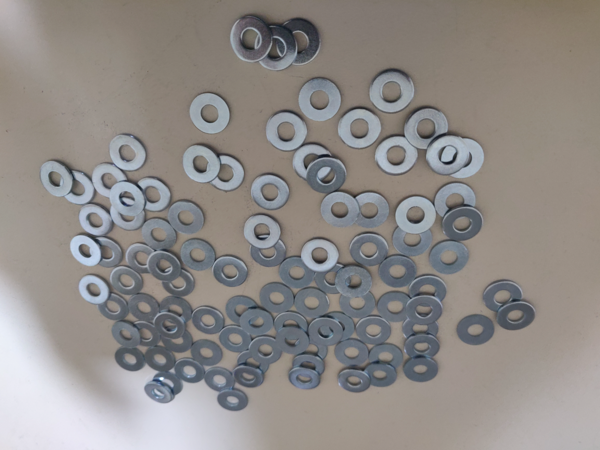circle: (276, 16, 321, 66), (230, 16, 274, 64), (255, 24, 298, 72), (370, 68, 415, 113), (298, 77, 342, 121), (404, 107, 448, 150), (338, 108, 382, 150), (265, 110, 308, 152), (189, 91, 231, 134), (375, 135, 419, 176), (442, 137, 484, 179), (306, 155, 349, 195), (292, 143, 334, 183), (427, 134, 467, 175), (394, 195, 436, 234), (181, 143, 221, 183), (250, 174, 292, 212), (352, 190, 391, 230), (435, 181, 476, 219), (442, 204, 484, 241), (206, 155, 246, 193), (298, 238, 340, 274), (429, 240, 471, 275), (136, 175, 173, 214), (482, 279, 524, 313), (109, 134, 147, 171), (91, 161, 128, 199), (393, 222, 433, 257), (277, 255, 315, 291), (321, 192, 359, 228), (168, 199, 206, 235), (179, 238, 216, 274), (59, 170, 96, 206), (109, 180, 146, 216), (141, 216, 178, 252), (313, 261, 351, 296), (378, 255, 417, 289), (496, 300, 536, 333), (109, 197, 145, 233), (244, 214, 281, 249), (409, 274, 446, 309), (350, 232, 388, 266), (355, 315, 394, 348), (78, 202, 113, 238), (212, 255, 249, 289), (457, 314, 496, 346), (160, 265, 196, 299), (40, 161, 73, 198), (405, 296, 444, 327), (250, 235, 287, 267), (335, 266, 372, 298), (401, 313, 439, 344), (339, 287, 377, 318), (147, 249, 181, 282), (378, 291, 412, 324), (109, 267, 144, 299), (258, 283, 294, 314), (402, 356, 440, 385), (309, 315, 342, 348), (324, 311, 358, 343), (158, 296, 193, 327), (142, 343, 177, 374), (404, 332, 441, 361), (77, 274, 110, 306), (130, 320, 163, 352), (127, 293, 160, 325), (70, 234, 102, 267), (296, 334, 329, 366), (96, 292, 130, 323), (295, 288, 329, 319), (125, 243, 158, 274), (90, 237, 123, 268), (239, 307, 274, 336), (274, 312, 309, 341), (190, 339, 224, 368), (275, 327, 309, 356), (225, 296, 259, 325), (369, 343, 403, 372), (334, 339, 369, 367), (219, 325, 252, 354), (192, 307, 226, 335), (337, 367, 371, 395), (363, 361, 398, 388), (249, 336, 282, 364), (237, 349, 270, 377), (162, 326, 193, 355), (172, 359, 206, 385), (292, 353, 326, 379), (154, 312, 185, 340), (114, 346, 145, 373), (152, 372, 184, 398), (287, 367, 321, 391), (205, 367, 236, 393), (233, 364, 265, 389), (143, 381, 176, 405), (217, 389, 250, 413)
